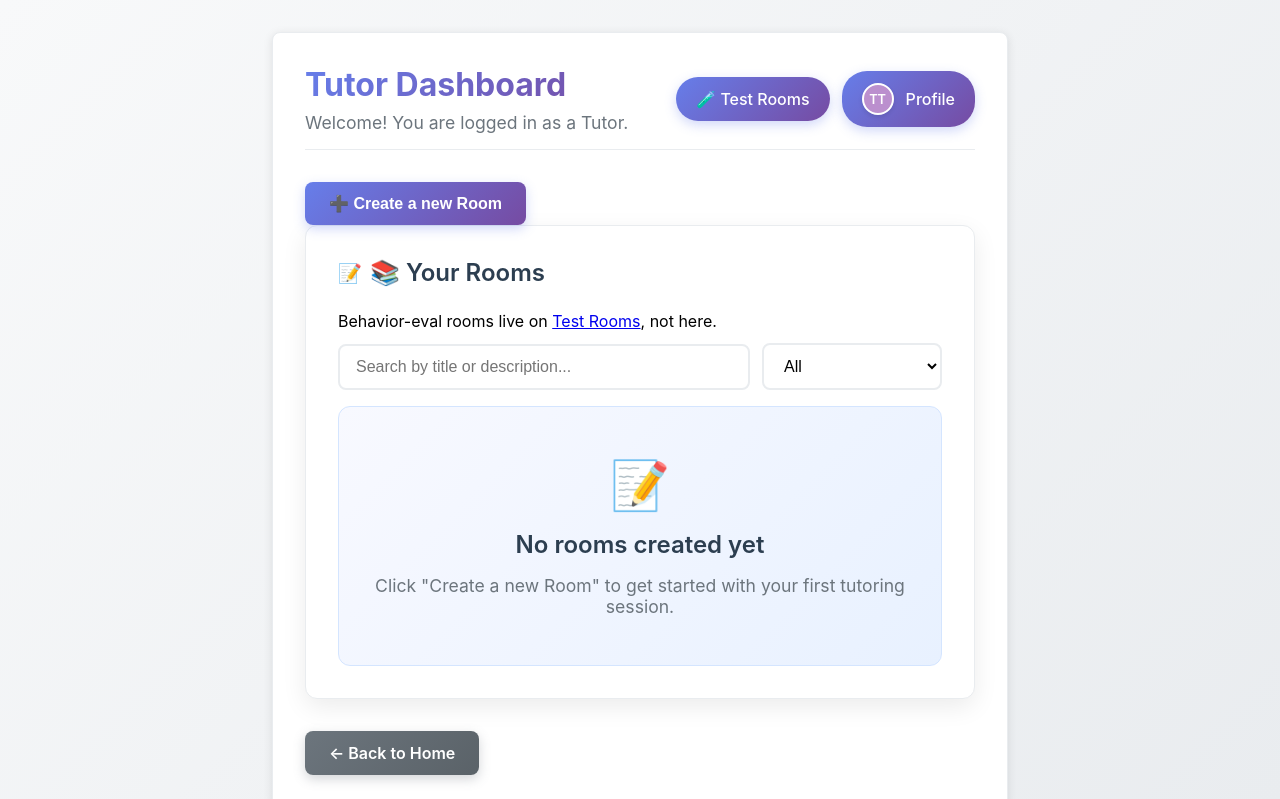
Room Template Management › Template Selection › should hide behavior-demo templates on main Tutor dashboard
Click the button "➕ Create a new Room".
click(415, 204)  # box [305, 182, 526, 225]
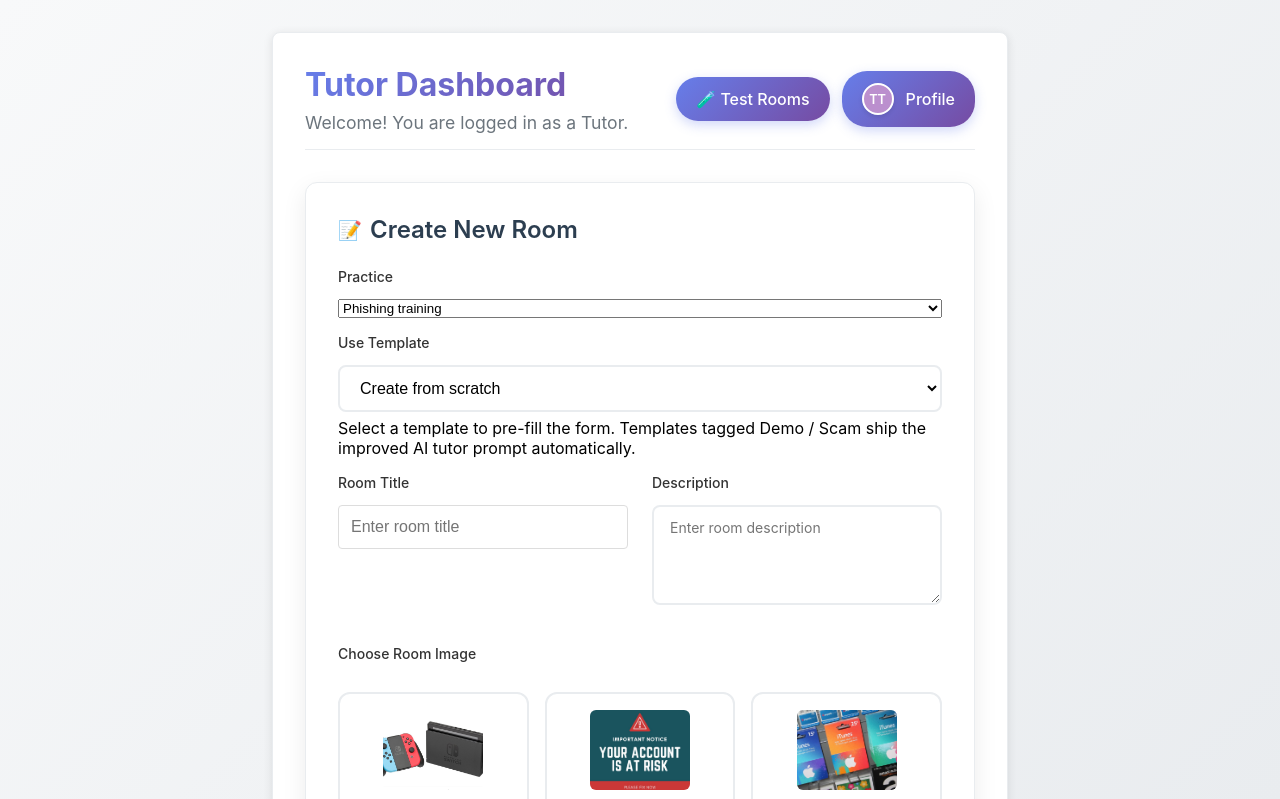
Now the dropdown labelled "Use Template" is shown, box [338, 365, 942, 412]
